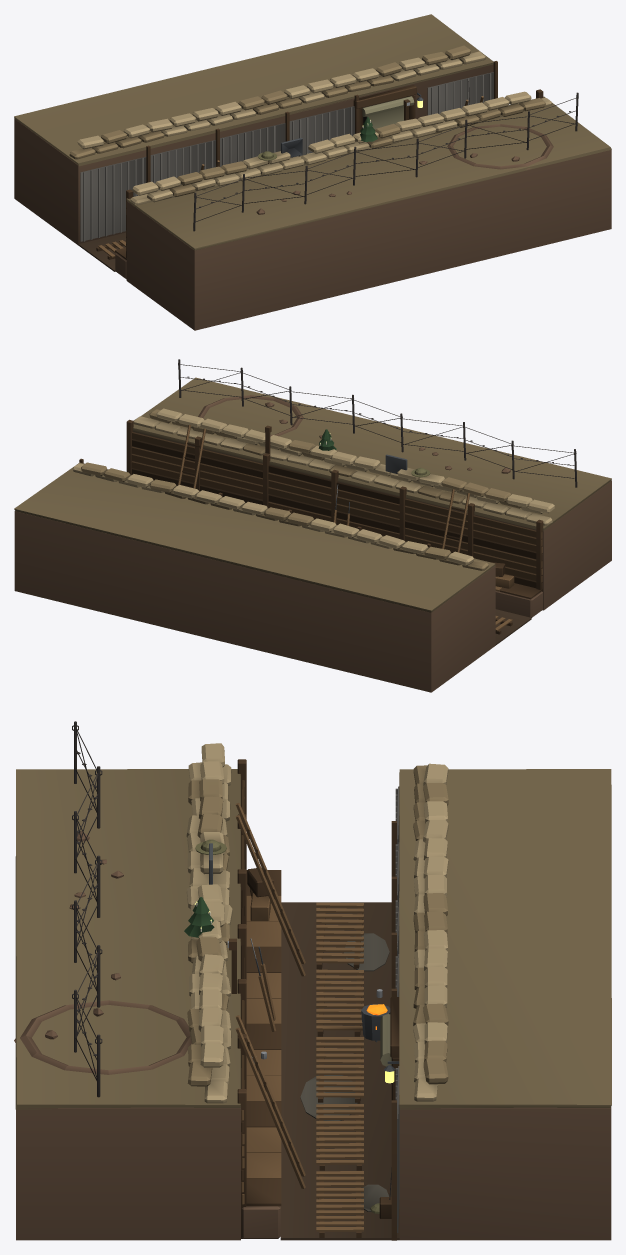
File: trench.glb
3 views of the same model, one above another, from view 1: azimuth 30°, elevation 25°; view 2: azimuth 150°, elevation 25°; view 3: azimuth 270°, elevation 25° (orthographic). The views are drawn at different scales.
Visible parts, largest first — view 1: trench; view 2: trench; view 3: trench.
Boxes of the visible parts, x1,y1,x2,y2 form: trench: (14, 14, 611, 330); trench: (14, 359, 611, 692); trench: (14, 721, 611, 1240).
Size of the model in its own units: 12.03 by 3.31 by 9.04.
